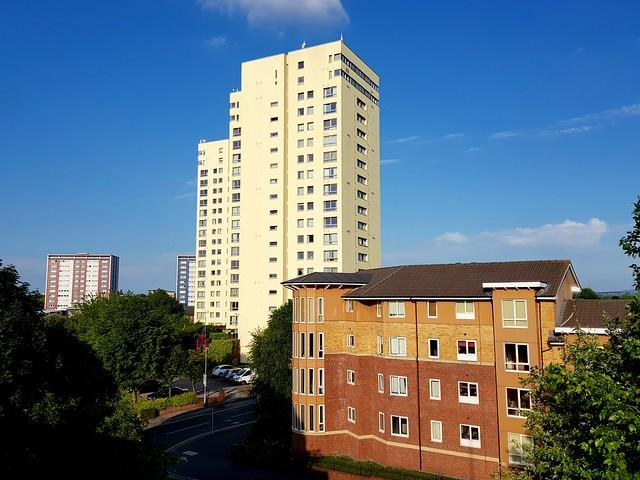building: (282, 256, 640, 474), (195, 30, 383, 426)
